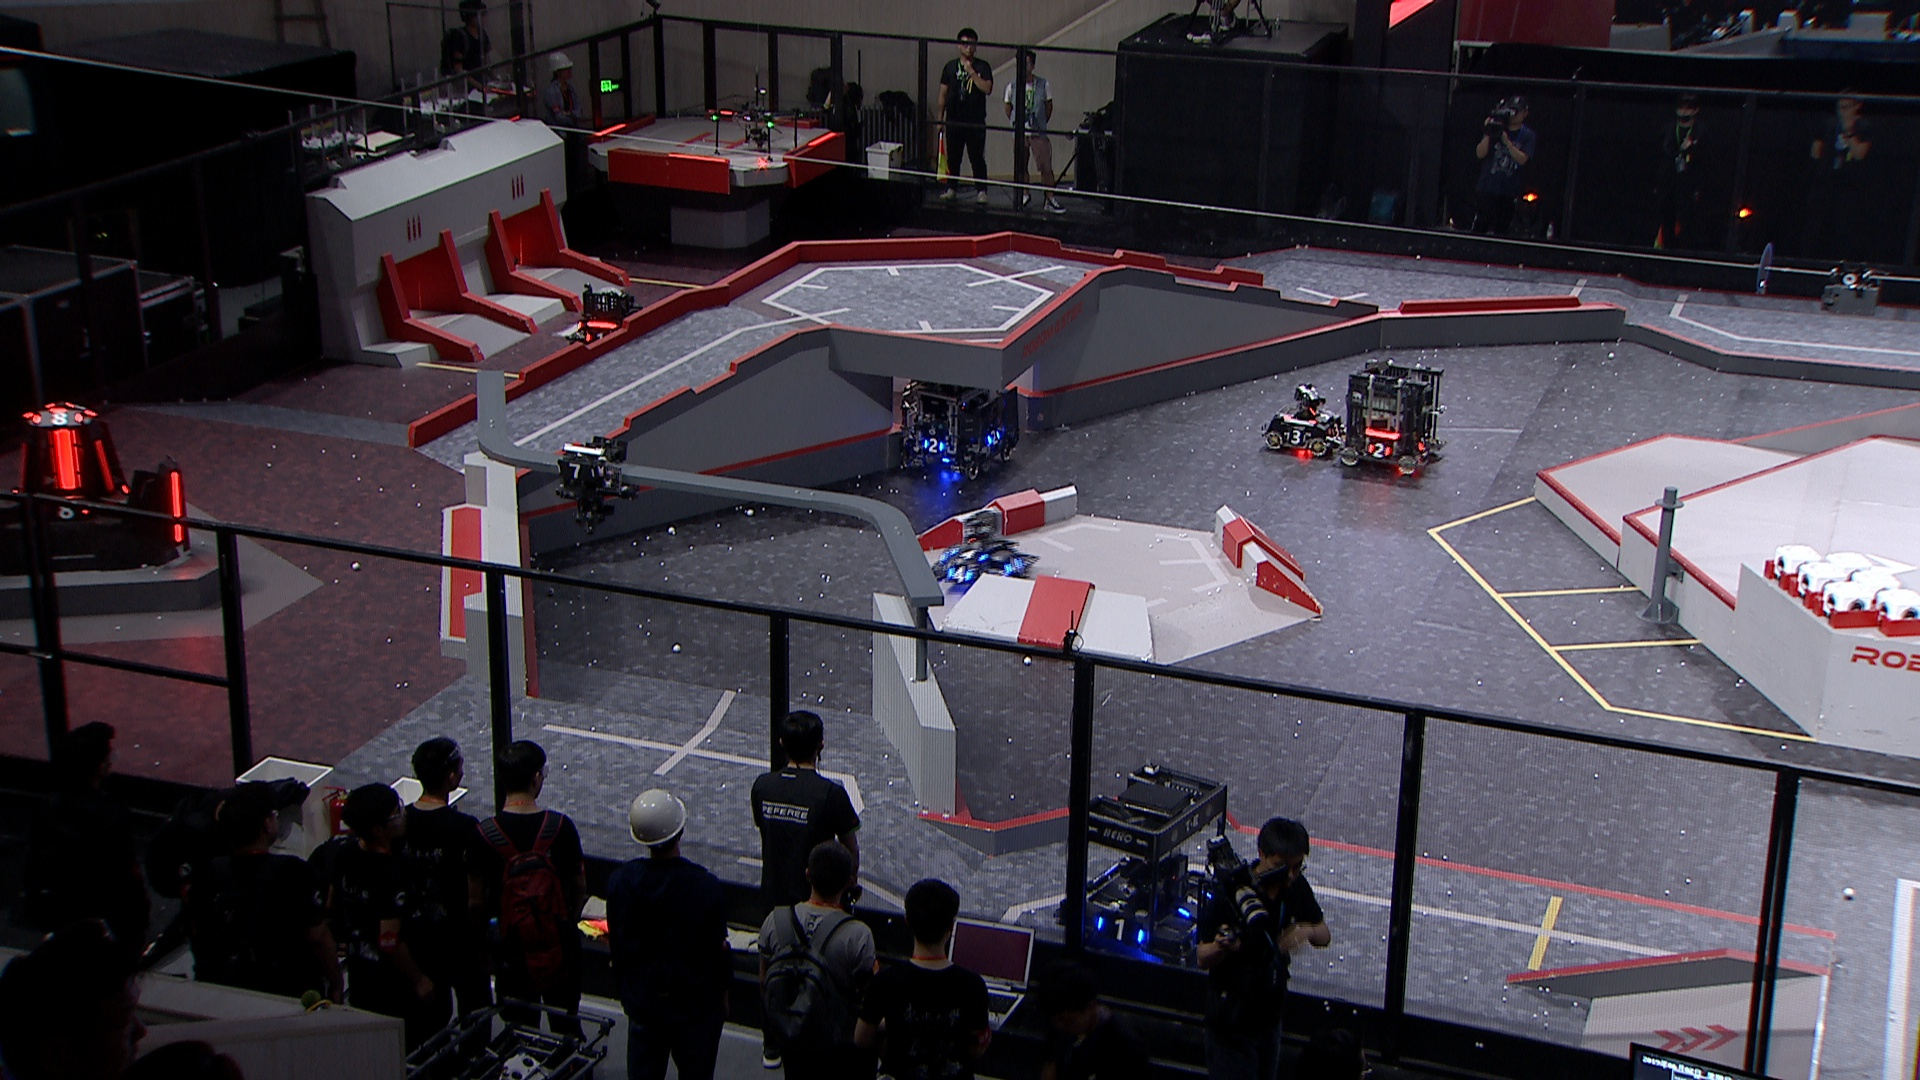armor: (45, 429, 83, 491), (166, 469, 187, 547), (1093, 916, 1149, 945), (91, 438, 115, 493), (12, 438, 32, 496), (26, 410, 87, 427), (1176, 889, 1211, 916), (555, 462, 597, 480), (51, 504, 90, 524), (948, 545, 989, 562), (1365, 440, 1393, 462), (920, 434, 945, 456), (945, 564, 975, 583), (984, 429, 1005, 448), (1001, 556, 1022, 576), (582, 328, 607, 344), (1286, 429, 1305, 446), (1414, 436, 1432, 454), (1313, 410, 1332, 425), (1332, 419, 1342, 439)
car: (1048, 756, 1232, 964), (898, 367, 1021, 483), (1338, 357, 1443, 475), (928, 510, 1034, 593), (562, 285, 657, 361), (1259, 382, 1344, 460)
watcher: (553, 436, 637, 527)
